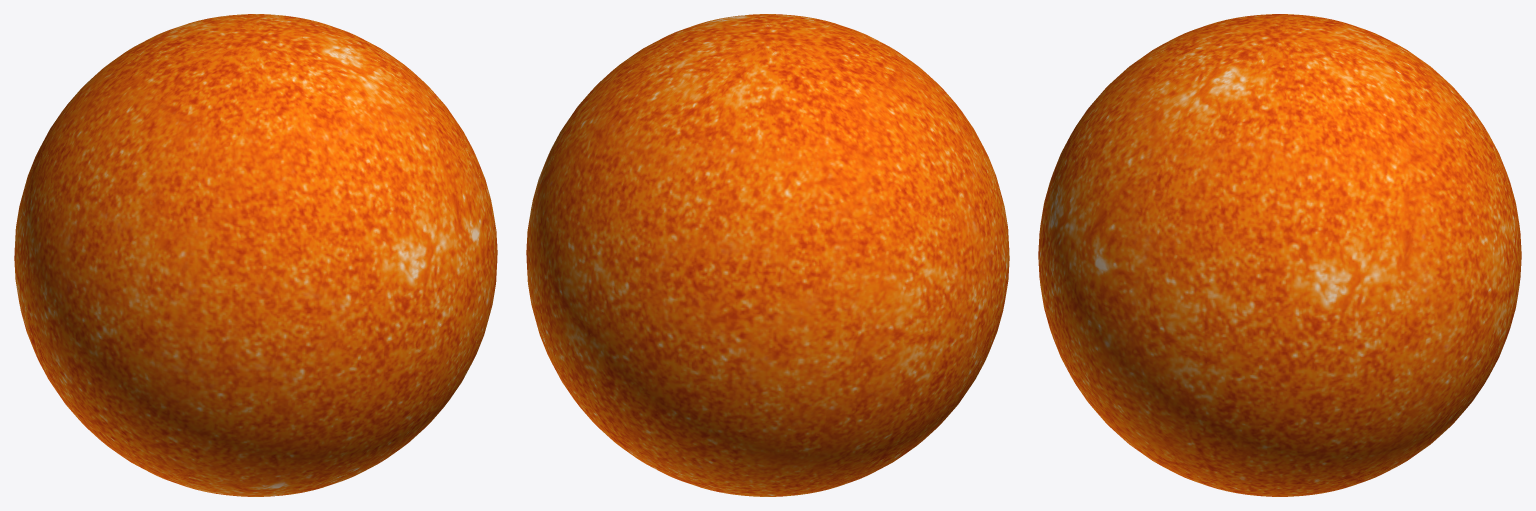
The model's file is sun.obj.
3 renders of one model, left to right at view 1: azimuth 30°, elevation 25°; view 2: azimuth 150°, elevation 25°; view 3: azimuth 270°, elevation 25°, orthographic.
Visible parts, largest first — view 1: UnstableStarref_2_0; view 2: UnstableStarref_2_0; view 3: UnstableStarref_2_0.
Part boxes in pixels (box(x1,y1,x2,y2)): UnstableStarref_2_0: box(14, 14, 497, 496); UnstableStarref_2_0: box(526, 14, 1009, 496); UnstableStarref_2_0: box(1038, 14, 1521, 496).
Bounding box in the file's own units: 20.2 × 20.2 × 20.2.
Materials: 2 (2 with a texture image).
